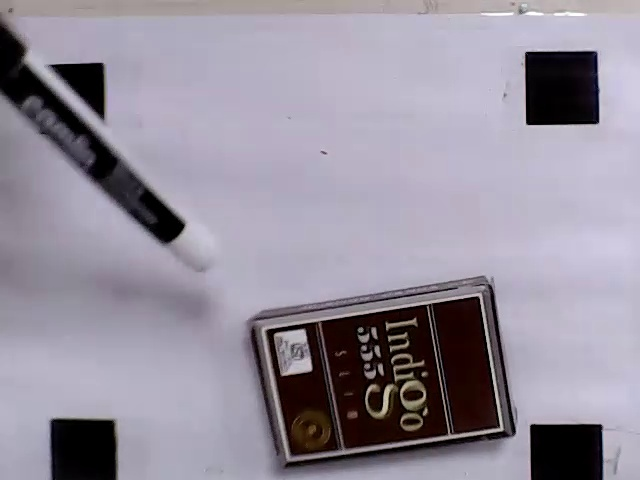BEX: (263, 295, 501, 459)
